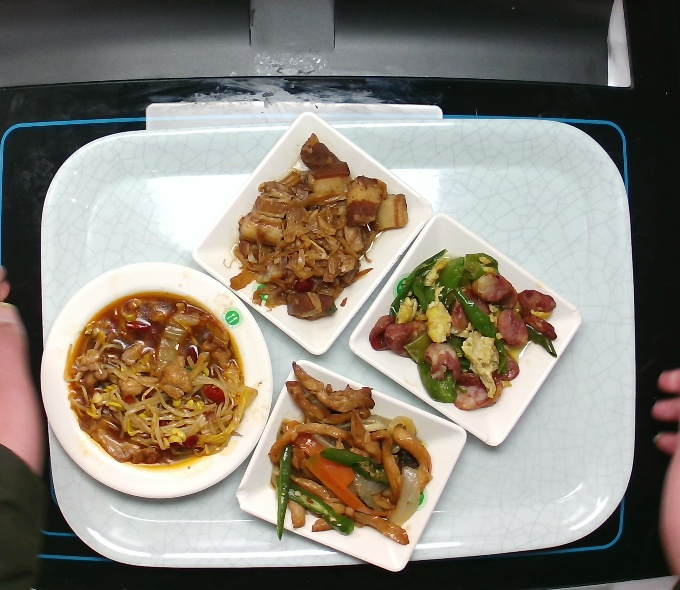wcq-HongShaoRou: (217, 121, 416, 328)
wcq-QingJiaoJiDanChaoDaChang: (362, 235, 568, 416)
wcq-QingJiaoRouSi: (253, 355, 442, 551)
wcq-ShuiZhuRouPian: (65, 282, 260, 469)
